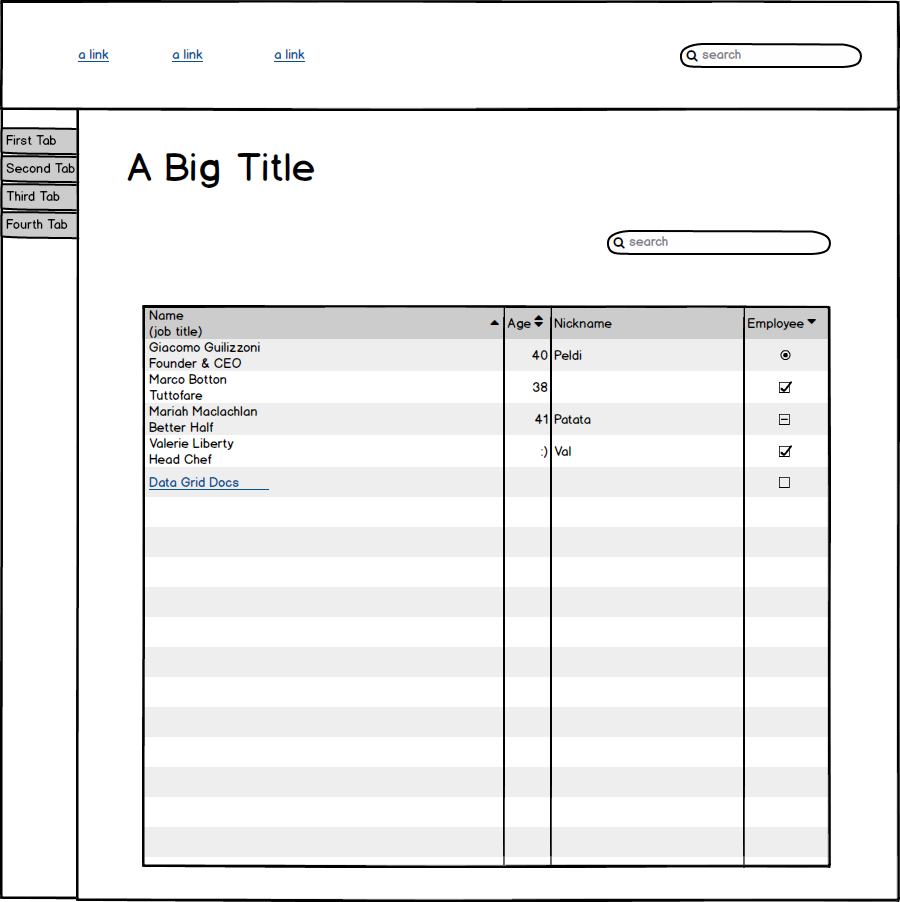h1: (124, 142, 327, 189)
navlink: (160, 38, 227, 71), (265, 38, 326, 67), (75, 39, 115, 72)
search: (601, 222, 845, 263), (674, 34, 870, 74)
sidebar: (2, 120, 85, 245)
table: (135, 300, 838, 879)
